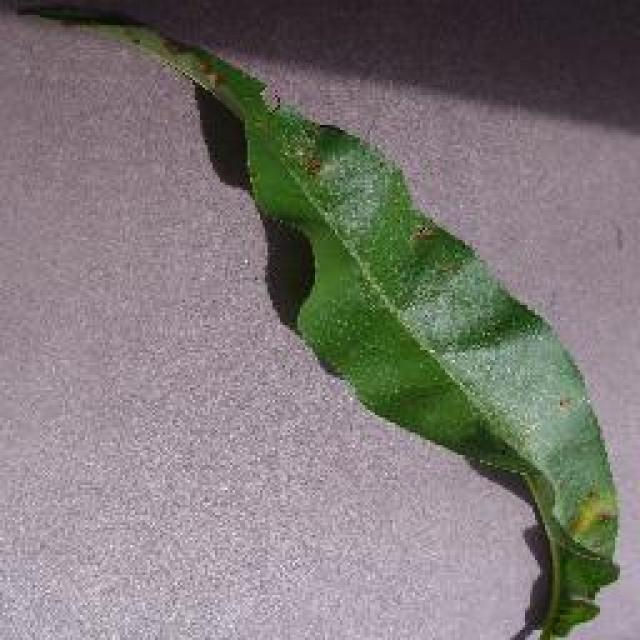Peach_Bacterial_Spot: (268, 110, 394, 292)
